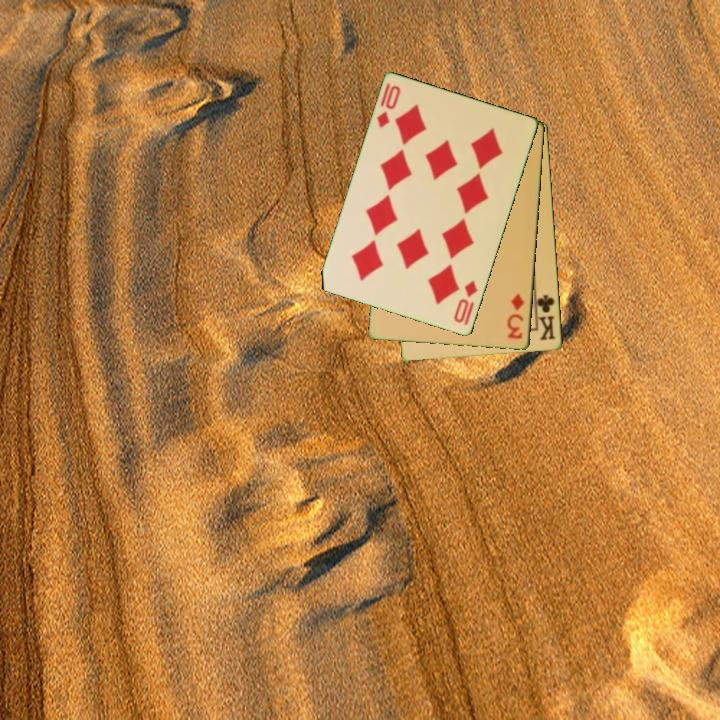10d: (450, 277, 481, 328), (373, 80, 404, 131)
3d: (504, 291, 527, 342)
Kc: (532, 289, 559, 343)
